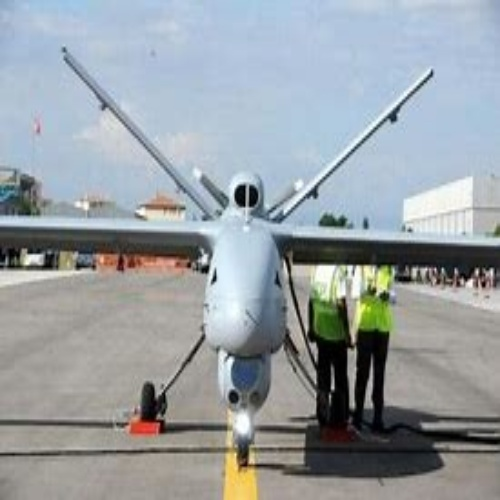uav594: (4, 48, 499, 467)
